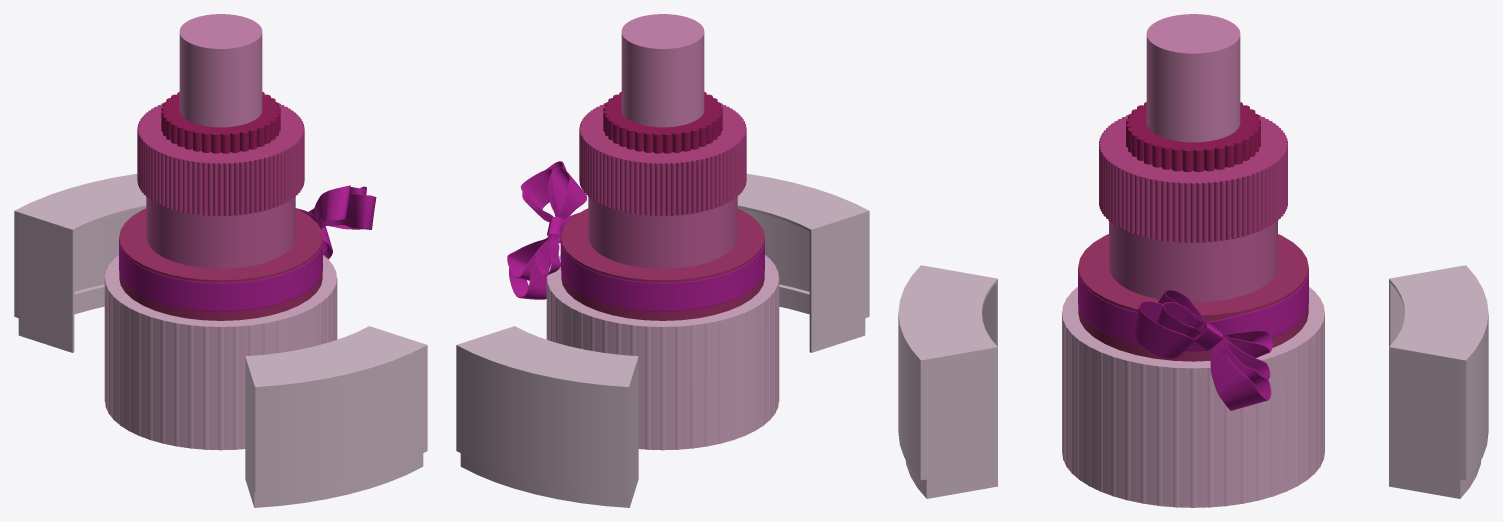
File: WEDLUXE.fbx
The picture shows the model from 3 angles, left to right: view 1: azimuth 30°, elevation 25°; view 2: azimuth 150°, elevation 25°; view 3: azimuth 270°, elevation 25°; orthographic projection. The views are drawn at different scales.
Visible parts, largest first — view 1: Cylinder018, Cylinder017, Cylinder015, Cylinder005, Cylinder016, Object001, Circle012, Circle001, Circle006, Cylinder014, Circle021, Arc001 (+16 smaller); view 2: Cylinder017, Cylinder018, Cylinder015, Cylinder005, Cylinder016, Object001, Arc001, Circle012, Circle001, Circle006, Cylinder014, Circle026 (+19 smaller); view 3: Cylinder017, Cylinder018, Cylinder015, Cylinder005, Arc001, Cylinder016, Circle038, Circle041, Circle048, Object001, Circle006, Cylinder014 (+22 smaller).
Boxes of the visible parts, x1=… form: Cylinder018: x1=245, y1=326, x2=427, y2=507; Cylinder017: x1=14, y1=173, x2=146, y2=352; Cylinder015: x1=179, y1=14, x2=262, y2=127; Cylinder005: x1=146, y1=197, x2=295, y2=268; Cylinder016: x1=119, y1=208, x2=322, y2=320; Object001: x1=119, y1=208, x2=322, y2=311; Circle012: x1=105, y1=273, x2=336, y2=449; Circle001: x1=110, y1=270, x2=335, y2=449; Circle006: x1=161, y1=92, x2=280, y2=153; Cylinder014: x1=139, y1=105, x2=302, y2=162; Circle021: x1=107, y1=288, x2=323, y2=449; Arc001: x1=312, y1=185, x2=376, y2=259; Cylinder017: x1=456, y1=326, x2=638, y2=507; Cylinder018: x1=737, y1=173, x2=869, y2=352; Cylinder015: x1=621, y1=14, x2=704, y2=127; Cylinder005: x1=588, y1=197, x2=737, y2=268; Cylinder016: x1=561, y1=208, x2=764, y2=320; Object001: x1=560, y1=212, x2=764, y2=311; Arc001: x1=507, y1=161, x2=586, y2=299; Circle012: x1=548, y1=255, x2=778, y2=449; Circle001: x1=548, y1=284, x2=776, y2=449; Circle006: x1=603, y1=92, x2=722, y2=153; Cylinder014: x1=581, y1=105, x2=744, y2=162; Circle026: x1=638, y1=286, x2=777, y2=449; Cylinder017: x1=1389, y1=265, x2=1488, y2=498; Cylinder018: x1=898, y1=265, x2=997, y2=498; Cylinder015: x1=1146, y1=14, x2=1240, y2=142; Cylinder005: x1=1109, y1=221, x2=1277, y2=302; Arc001: x1=1134, y1=290, x2=1272, y2=410; Cylinder016: x1=1078, y1=234, x2=1308, y2=361; Circle038: x1=1068, y1=287, x2=1322, y2=506; Circle041: x1=1064, y1=292, x2=1321, y2=507; Circle048: x1=1063, y1=318, x2=1324, y2=507; Object001: x1=1078, y1=267, x2=1308, y2=351; Circle006: x1=1126, y1=102, x2=1260, y2=172; Cylinder014: x1=1101, y1=116, x2=1285, y2=241.
Bounding box in the file's own units: 2527 × 3658 × 4674.
